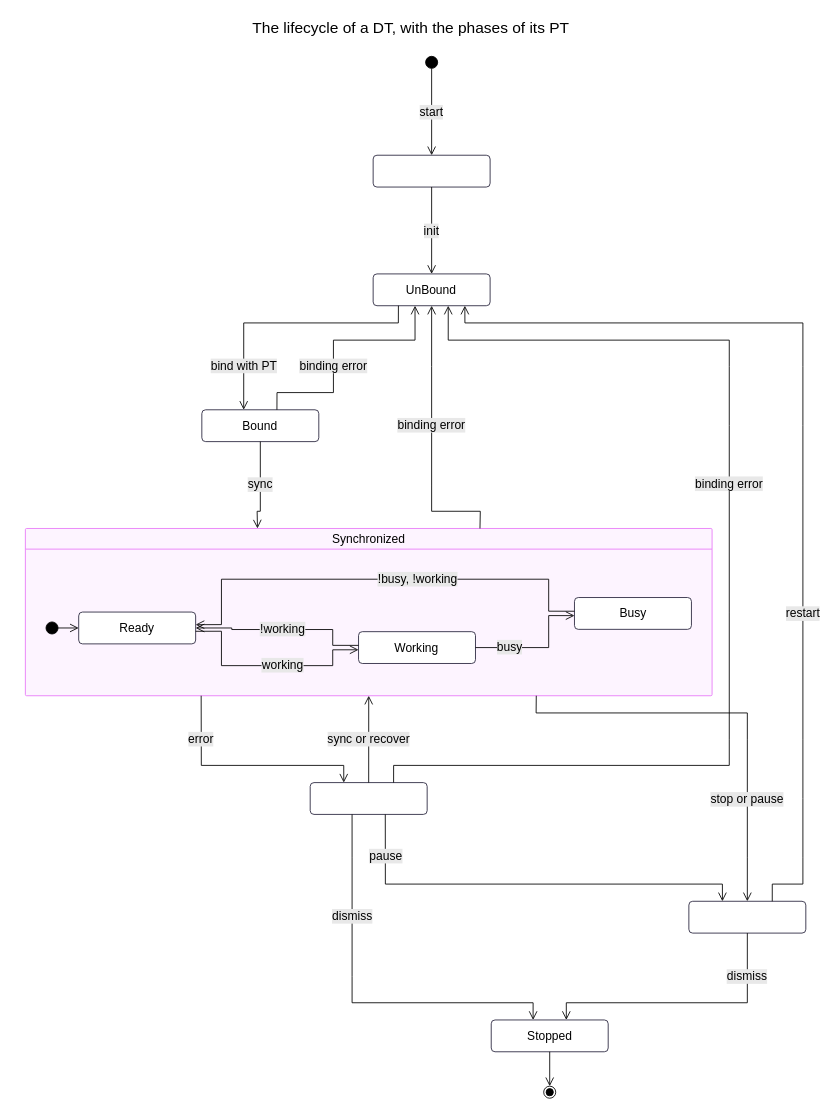
The diagram is 834 pixels wide and 1113 high, and some of its shapes have lost their labels. The shapes that lost their labels are listed below. From the top down, each one's centre as x and y in pixels, then its label:
the point at 431,170: Started
the point at 368,798: Out of Sync
the point at 747,916: Done
